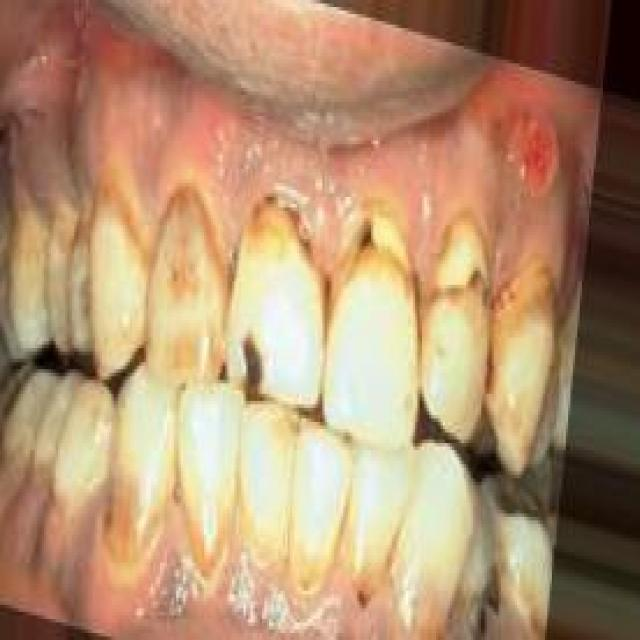caries: (431, 208, 497, 306), (341, 201, 413, 274), (252, 180, 315, 262), (231, 310, 279, 407), (465, 551, 516, 640)
